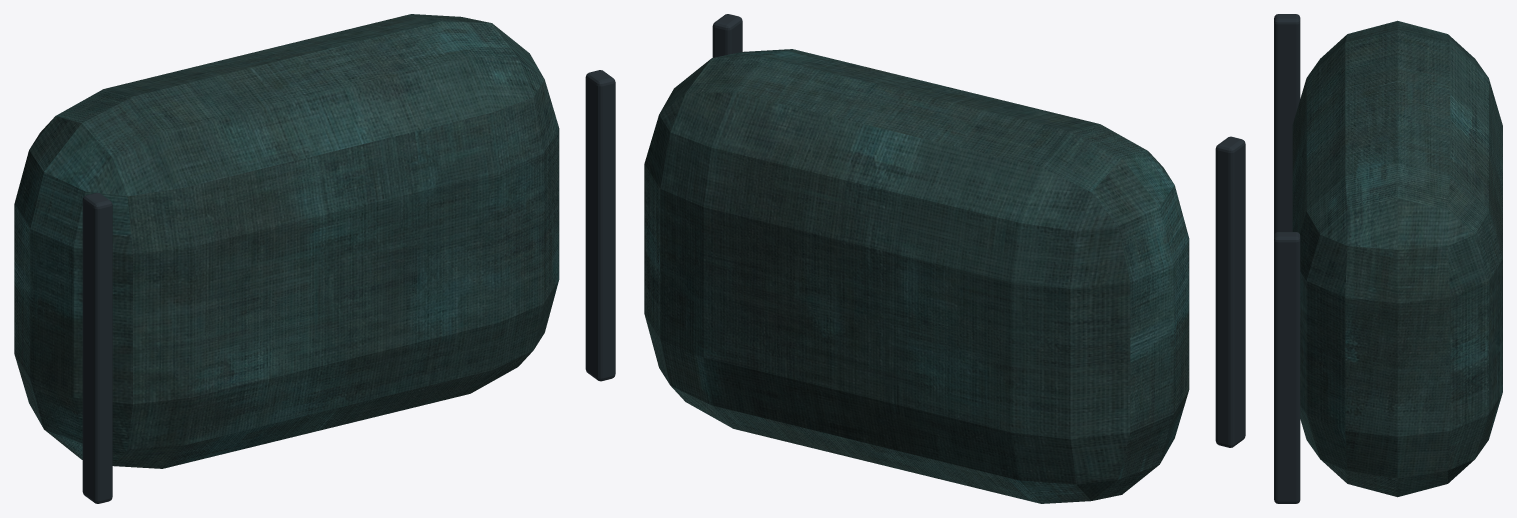
The model's file is APT_Prop_Pillow_Teal.glb.
3 views of the same model, side by side, from view 1: azimuth 30°, elevation 25°; view 2: azimuth 150°, elevation 25°; view 3: azimuth 270°, elevation 25° (orthographic). The views are drawn at different scales.
Parts seen in each view (by area): view 1: APT_Prop_Pillow_Teal_Cushion, APT_Prop_Pillow_Teal_Seam_-0.245, APT_Prop_Pillow_Teal_Seam_0.245; view 2: APT_Prop_Pillow_Teal_Cushion, APT_Prop_Pillow_Teal_Seam_-0.245, APT_Prop_Pillow_Teal_Seam_0.245; view 3: APT_Prop_Pillow_Teal_Cushion, APT_Prop_Pillow_Teal_Seam_0.245, APT_Prop_Pillow_Teal_Seam_-0.245.
Part boxes in pixels (x1,y1,x2,y2): APT_Prop_Pillow_Teal_Cushion: (14, 14, 559, 468); APT_Prop_Pillow_Teal_Seam_-0.245: (82, 192, 112, 503); APT_Prop_Pillow_Teal_Seam_0.245: (585, 70, 615, 381); APT_Prop_Pillow_Teal_Cushion: (644, 49, 1189, 503); APT_Prop_Pillow_Teal_Seam_-0.245: (1215, 136, 1245, 447); APT_Prop_Pillow_Teal_Seam_0.245: (712, 14, 742, 57); APT_Prop_Pillow_Teal_Cushion: (1292, 20, 1502, 497); APT_Prop_Pillow_Teal_Seam_0.245: (1274, 232, 1300, 503); APT_Prop_Pillow_Teal_Seam_-0.245: (1274, 14, 1300, 235).
Size of the model in its own units: 0.508 by 0.34 by 0.2175.
2 materials, 1 textured.
